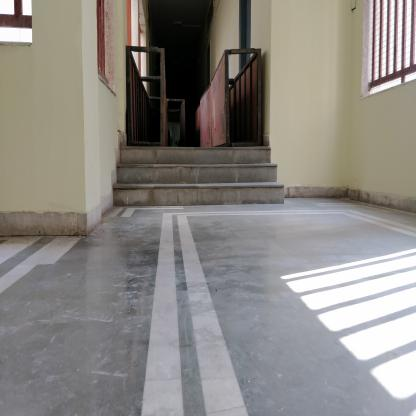stairs: (122, 144, 271, 205)
